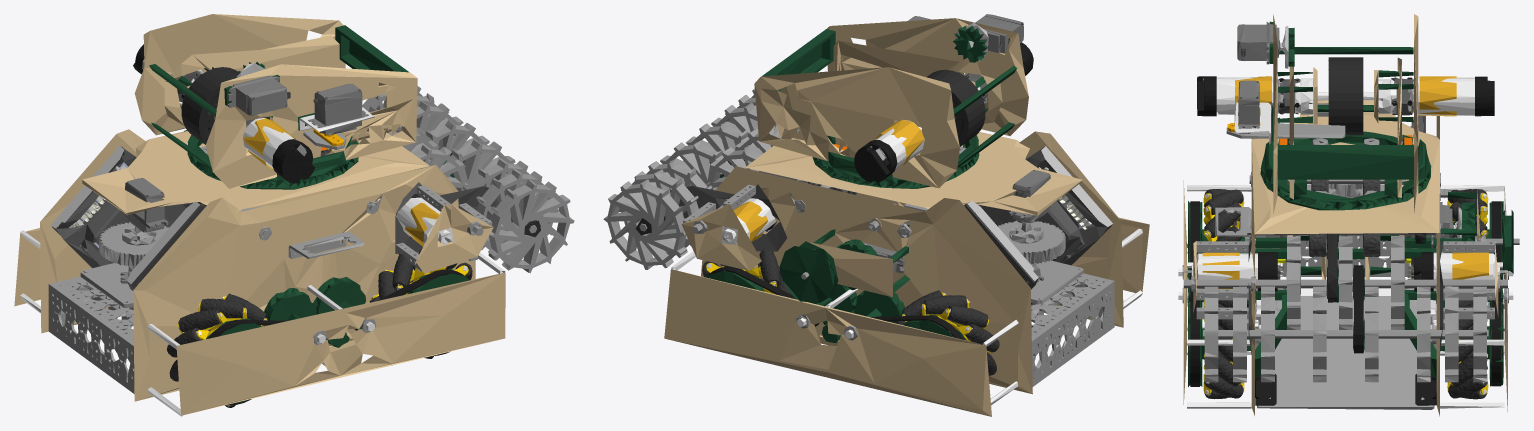
Rendered from uran-v1.glb.
3 renders of one model, left to right at view 1: azimuth 30°, elevation 25°; view 2: azimuth 150°, elevation 25°; view 3: azimuth 270°, elevation 25°, orthographic. The views are drawn at different scales.
Visible parts, largest first — view 1: robot; view 2: robot; view 3: robot.
Part boxes in pixels (left/top/right/bottom): robot: left=14, top=14, right=574, bottom=416; robot: left=603, top=14, right=1149, bottom=416; robot: left=1178, top=14, right=1519, bottom=416.
Bounding box in the file's own units: 0.4403 × 0.3049 × 0.3158.
